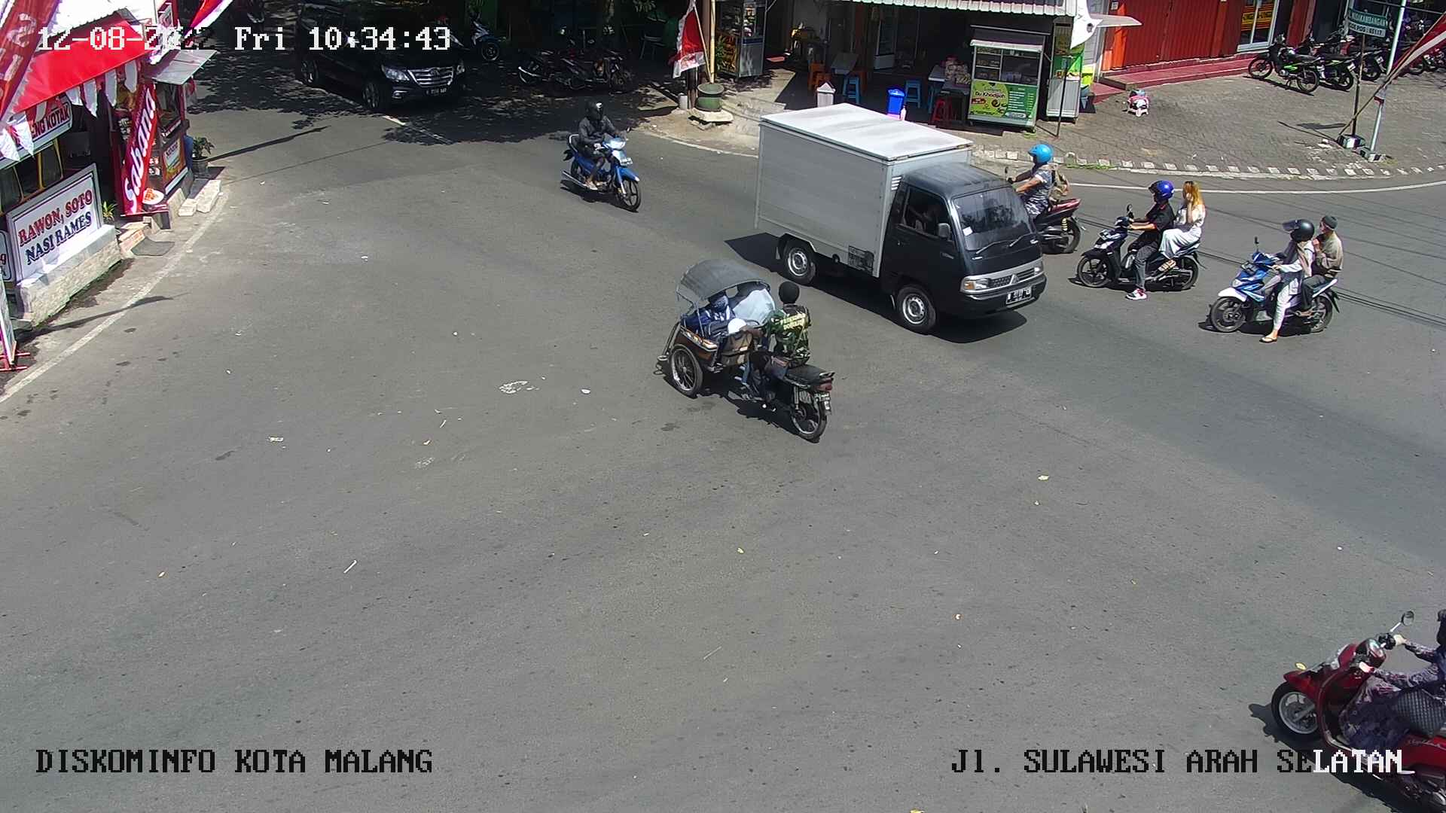with_helmet: (1220, 179, 1349, 349), (1081, 171, 1179, 320), (535, 89, 648, 216), (1002, 140, 1081, 246)
without_helmet: (652, 239, 852, 467)
